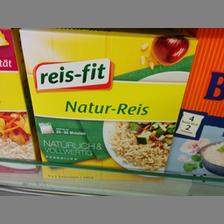Reis: (17, 28, 197, 180), (166, 27, 222, 181)
